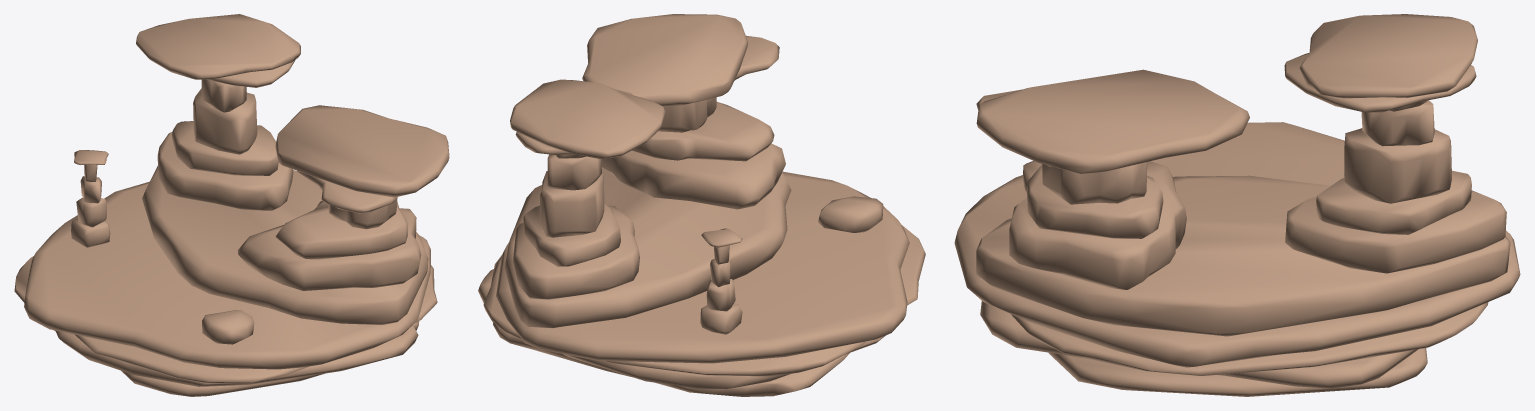
File: SandIsland.fbx
The picture shows the model from 3 angles, left to right: view 1: azimuth 30°, elevation 25°; view 2: azimuth 150°, elevation 25°; view 3: azimuth 270°, elevation 25°; orthographic projection. The views are drawn at different scales.
Visible parts, largest first — view 1: Plane-reduced; view 2: Plane-reduced; view 3: Plane-reduced.
Boxes of the visible parts, x1=… form: Plane-reduced: x1=14, y1=14, x2=449, y2=396; Plane-reduced: x1=478, y1=14, x2=925, y2=396; Plane-reduced: x1=954, y1=14, x2=1520, y2=396.
Size of the model in its own units: 1749 by 995 by 1804.
